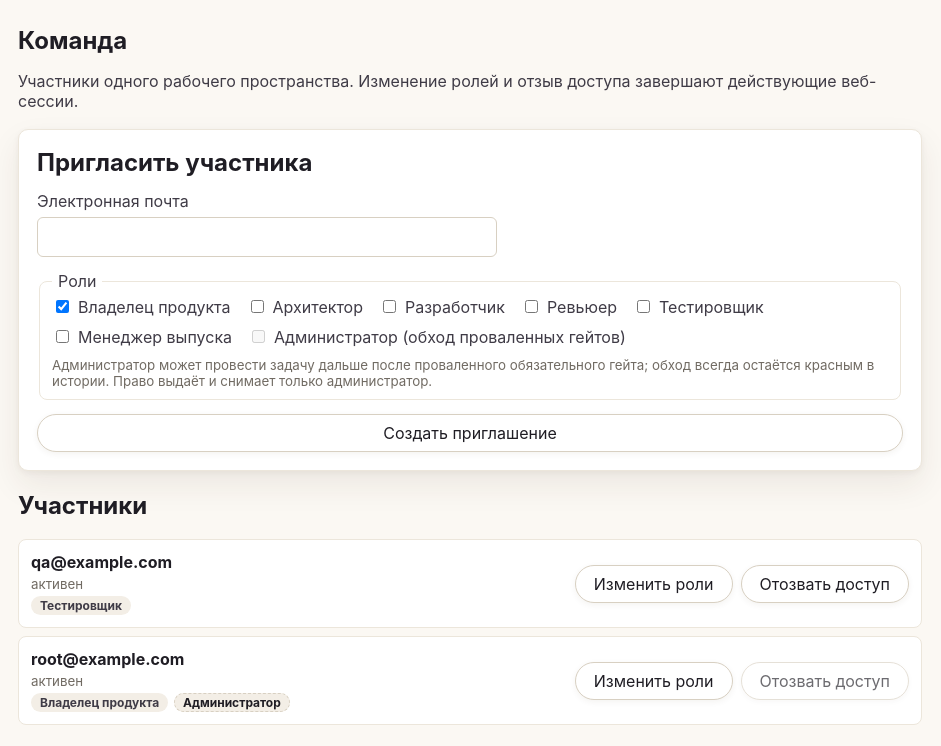
Test case: Team role editing › lets only an administrator grant the admin role and says why to everybody else
Click the button with aria-label "Изменить роли: qa@example.com": click(654, 584) [575, 565, 732, 603]
(page scrolled)
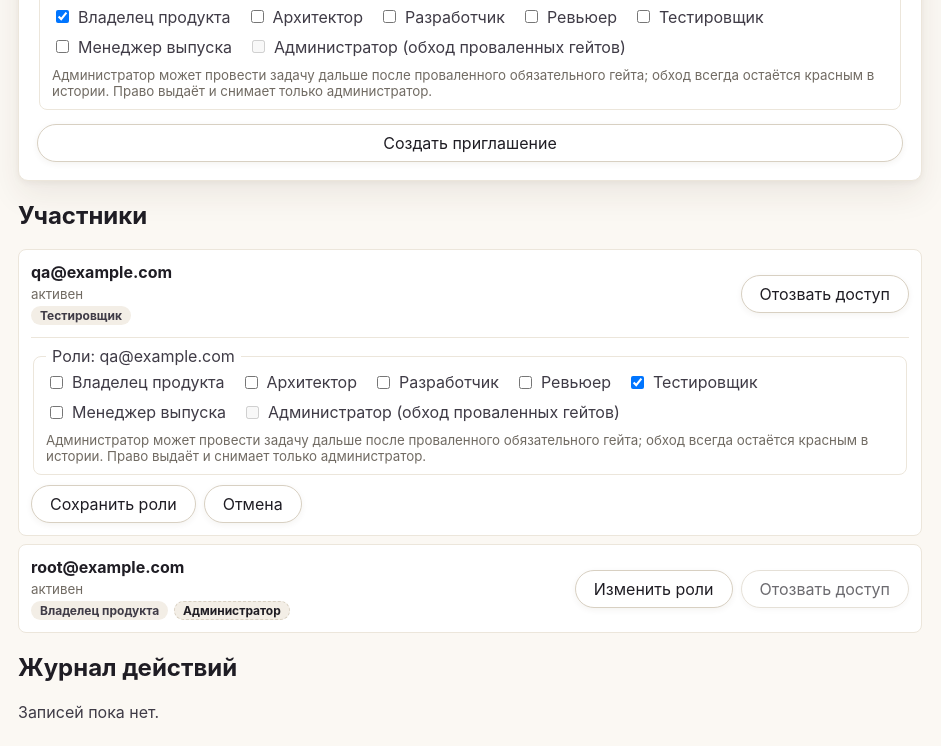
Expected: the button with aria-label "Отозвать доступ: root@example.com" is disabled, [740, 570, 909, 608]
Expected: the checkbox labelled "Администратор (обход проваленных гейтов)" below "Роли: qa@example.com" is disabled, [246, 406, 259, 418]
Expected: the text "Право выдаёт и снимает только администратор" below "Роли: qa@example.com" is shown, [46, 432, 868, 464]
